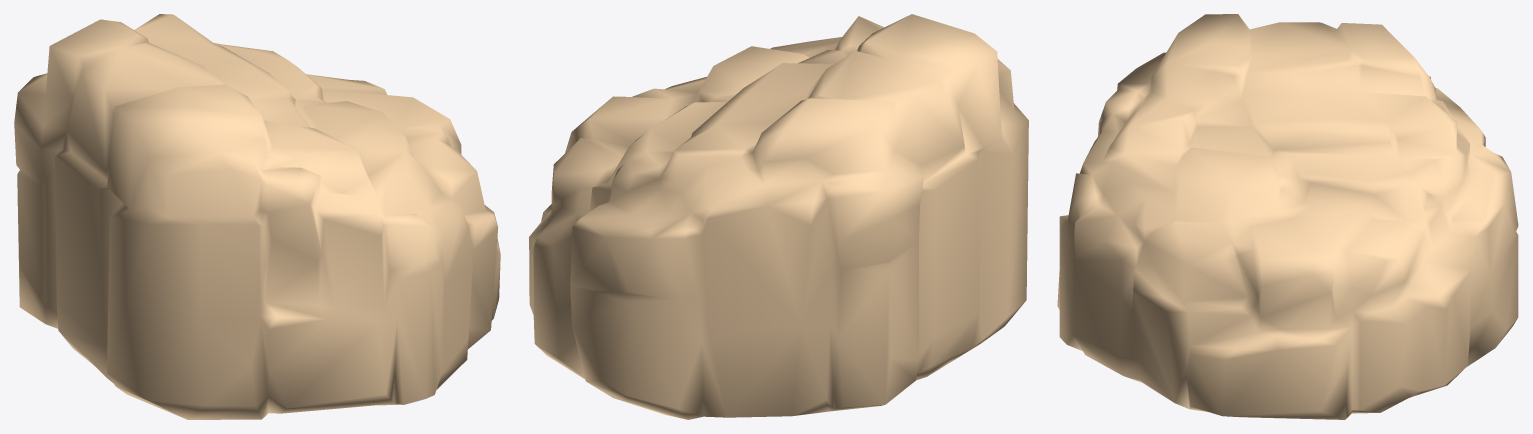
Rendered from mesh_HexTerrain_Ramp.fbx.
3 renders of one model, left to right at view 1: azimuth 30°, elevation 25°; view 2: azimuth 150°, elevation 25°; view 3: azimuth 270°, elevation 25°, orthographic. The views are drawn at different scales.
Visible parts, largest first — view 1: HexTerrain_Ramp_LOD0; view 2: HexTerrain_Ramp_LOD0; view 3: HexTerrain_Ramp_LOD0.
Part boxes in pixels (x1=…): HexTerrain_Ramp_LOD0: x1=14, y1=14, x2=500, y2=419; HexTerrain_Ramp_LOD0: x1=529, y1=14, x2=1028, y2=419; HexTerrain_Ramp_LOD0: x1=1057, y1=14, x2=1518, y2=419.
Size of what is drawn, in the model's own units: 9.16 by 6.39 by 10.51.
